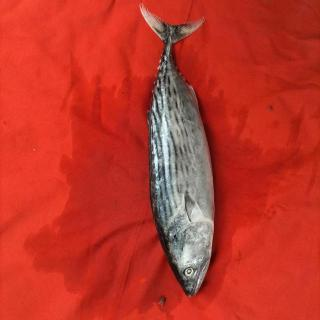Ikan: (129, 11, 221, 312)
